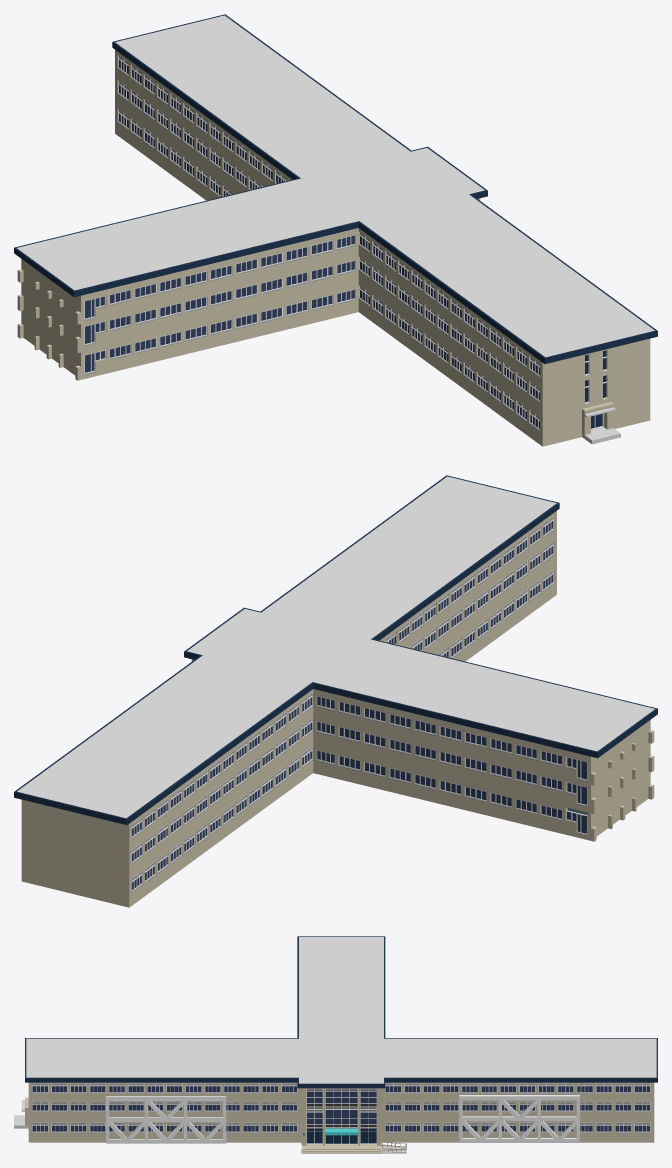
File: Building_D.fbx
The picture shows the model from 3 angles, top to bottom: view 1: azimuth 30°, elevation 25°; view 2: azimuth 150°, elevation 25°; view 3: azimuth 270°, elevation 25°; orthographic projection. The views are drawn at different scales.
Visible parts, largest first — view 1: Building_D; view 2: Building_D; view 3: Building_D.
Part boxes in pixels (x1,y1,x2,y2): Building_D: (14, 14, 657, 446); Building_D: (14, 475, 657, 907); Building_D: (14, 936, 657, 1153).
Bounding box in the file's own units: 52.21 × 10.68 × 94.
